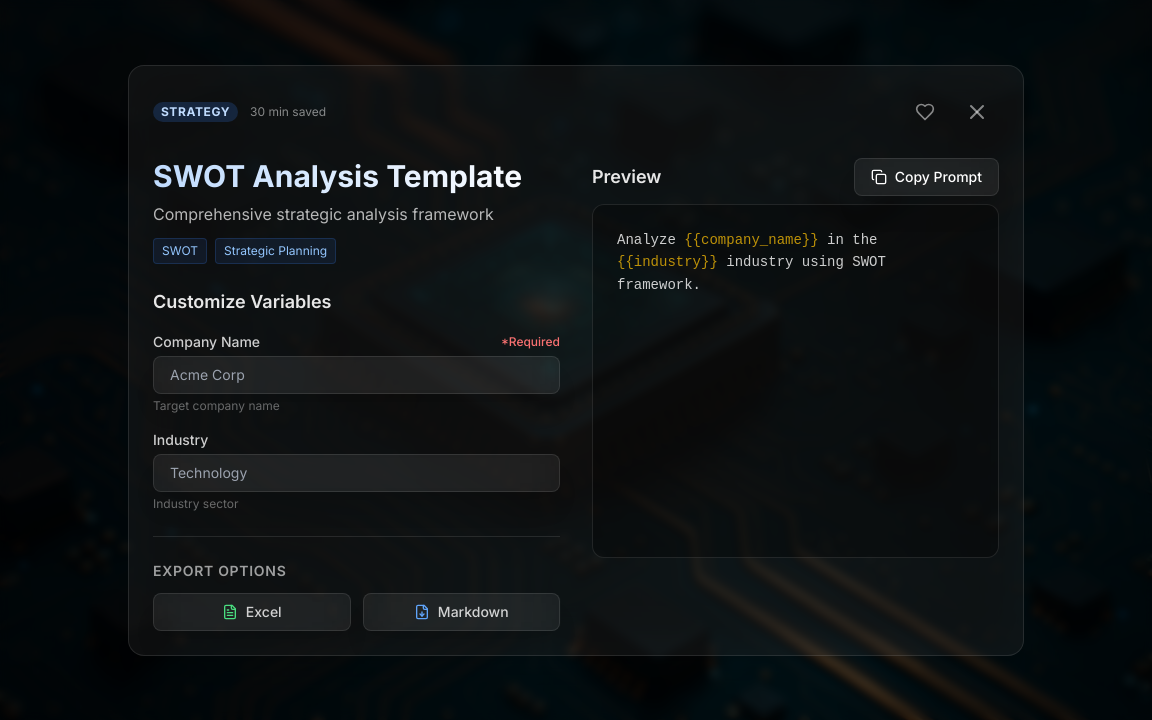
Test case: PromptModal › export functionality › should show loading state during export
The image size is (1152, 720).
What coordinates should you click on to do the following:
click the button "Excel"
I would click on:
 (252, 612)
Its box is [153,592,350,630].
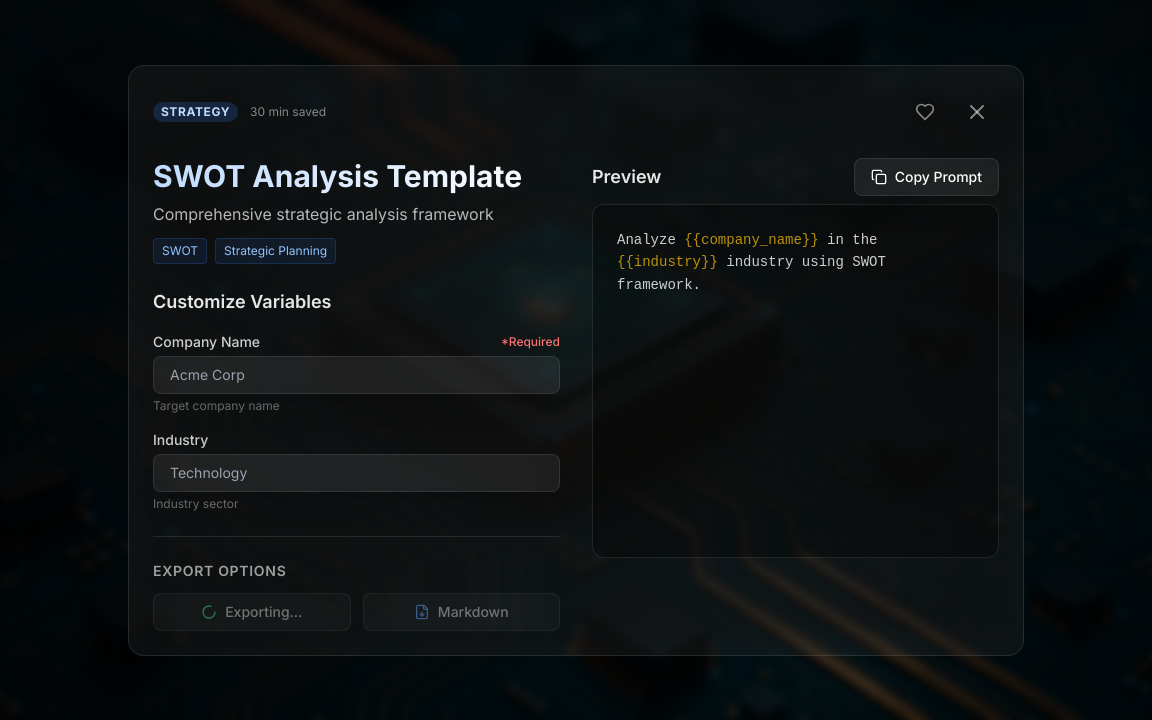
Check: the button "Exporting..." is shown, box [153,592,350,630]
